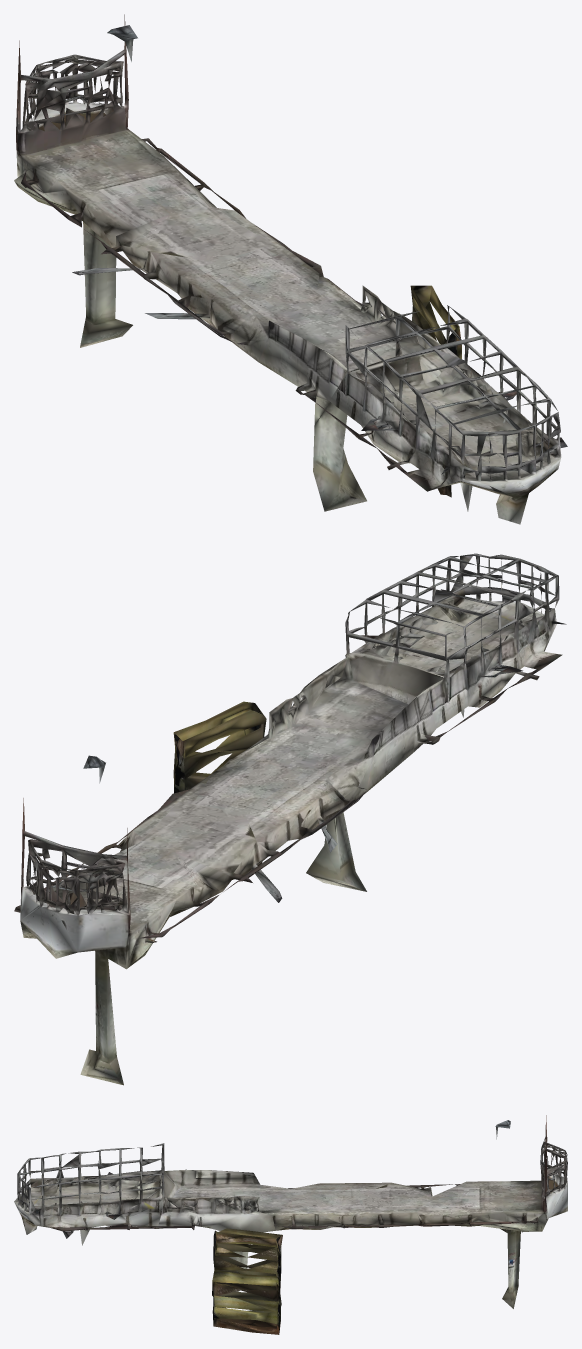
Rendered from passerelle-dantokpa.glb.
3 renders of one model, top to bottom at view 1: azimuth 30°, elevation 25°; view 2: azimuth 150°, elevation 25°; view 3: azimuth 270°, elevation 25°, orthographic. The views are drawn at different scales.
Parts seen in each view (by area): view 1: tripo_node_1013068b-976f-450d-b3c3-d5f9a83eefd2; view 2: tripo_node_1013068b-976f-450d-b3c3-d5f9a83eefd2; view 3: tripo_node_1013068b-976f-450d-b3c3-d5f9a83eefd2.
Part boxes in pixels (x1,y1,x2,y2): tripo_node_1013068b-976f-450d-b3c3-d5f9a83eefd2: (14, 14, 567, 524); tripo_node_1013068b-976f-450d-b3c3-d5f9a83eefd2: (14, 553, 566, 1085); tripo_node_1013068b-976f-450d-b3c3-d5f9a83eefd2: (14, 1115, 567, 1334).
Bounding box in the file's own units: 0.2872 × 0.3714 × 0.9962.
1 material, 1 textured.
